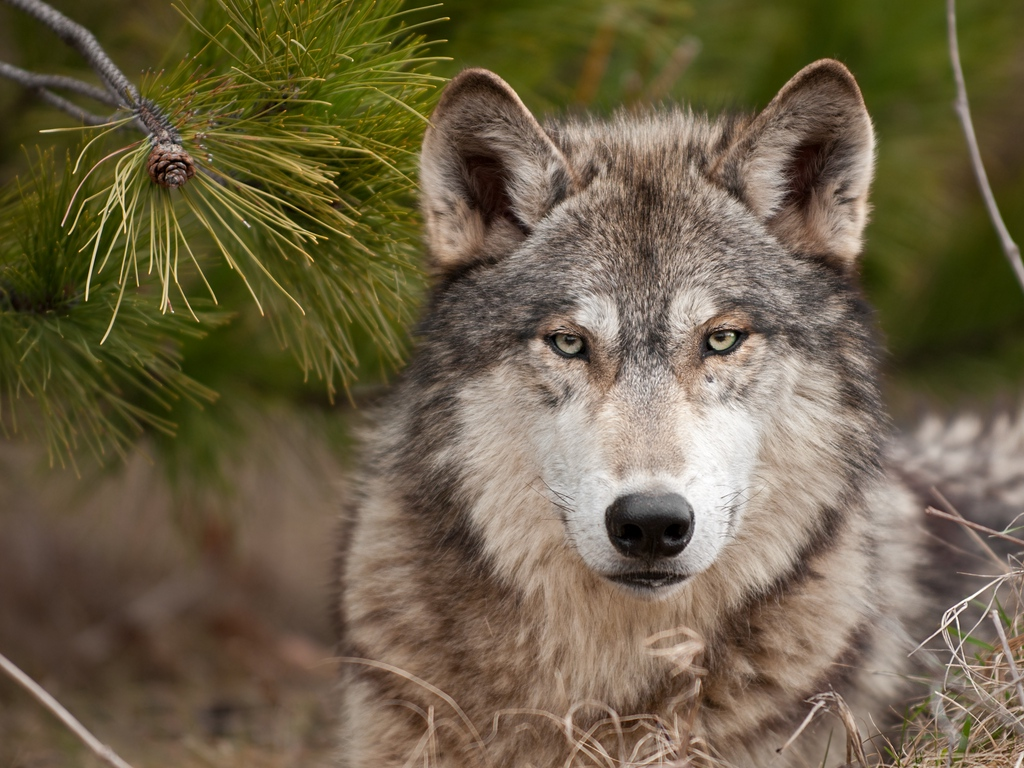wolf: (299, 51, 990, 768)
